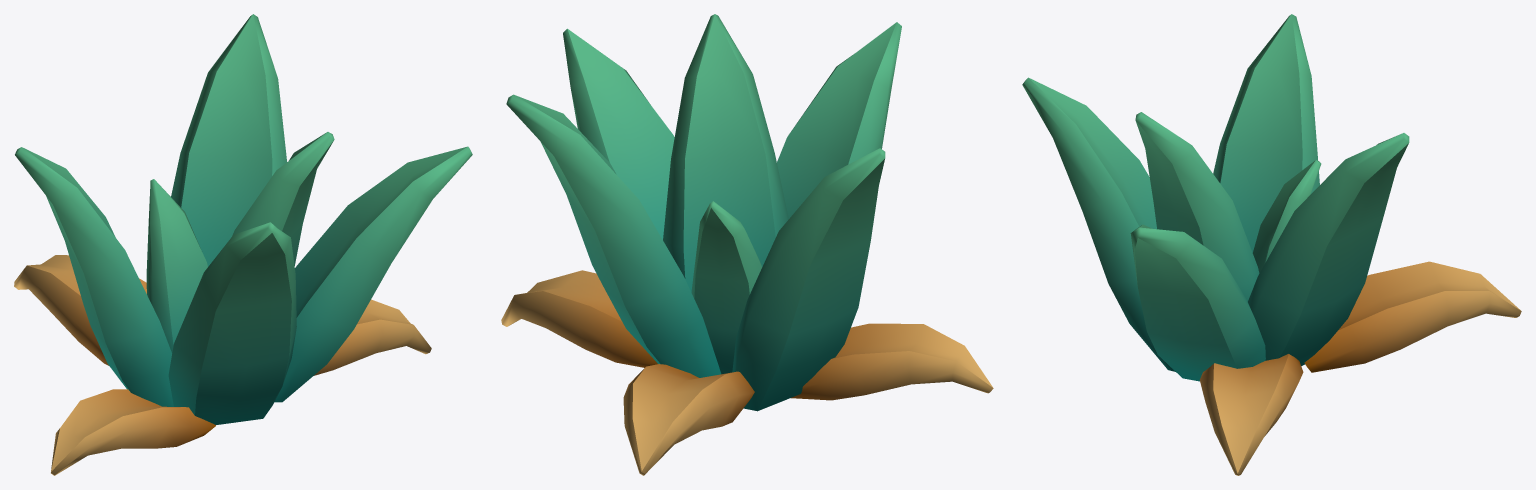
3 renders of one model, left to right at view 1: azimuth 30°, elevation 25°; view 2: azimuth 150°, elevation 25°; view 3: azimuth 270°, elevation 25°, orthographic. The views are drawn at different scales.
Parts seen in each view (by area): view 1: LOD 0_14127737254430187619_3e1162219392c0d418059c435572ff39; view 2: LOD 0_14127737254430187619_3e1162219392c0d418059c435572ff39; view 3: LOD 0_14127737254430187619_3e1162219392c0d418059c435572ff39.
Boxes of the visible parts, left/top/right/bottom form: LOD 0_14127737254430187619_3e1162219392c0d418059c435572ff39: left=14, top=14, right=472, bottom=475; LOD 0_14127737254430187619_3e1162219392c0d418059c435572ff39: left=501, top=14, right=993, bottom=475; LOD 0_14127737254430187619_3e1162219392c0d418059c435572ff39: left=1022, top=14, right=1521, bottom=475.
Size of the model in its own units: 0.9316 by 0.6424 by 0.9602.
